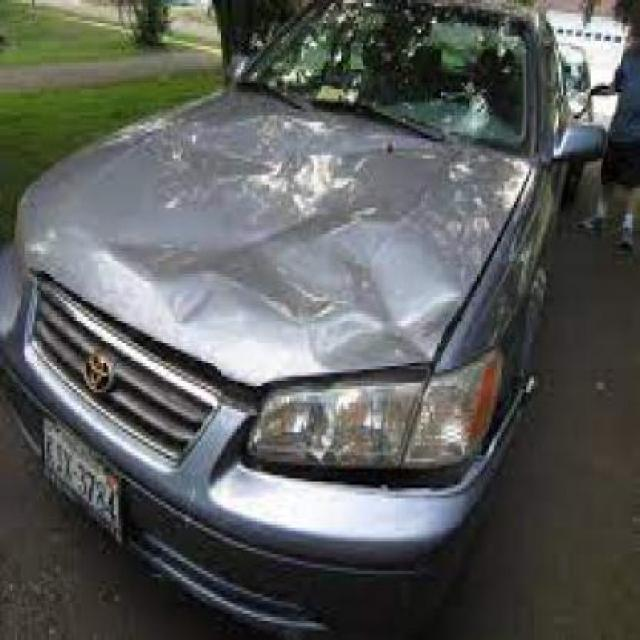damaged-hood: (22, 81, 536, 384)
